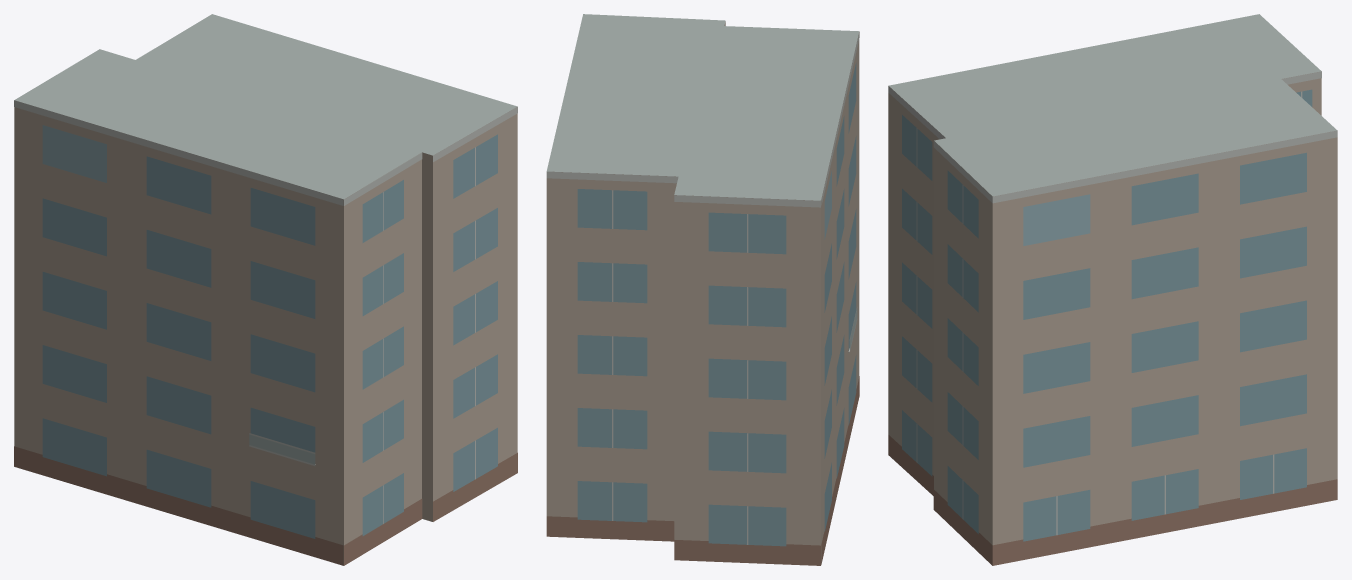
Rendered from survey-upis-32819435.glb.
The picture shows the model from 3 angles, left to right: view 1: azimuth 30°, elevation 25°; view 2: azimuth 150°, elevation 25°; view 3: azimuth 270°, elevation 25°; orthographic projection.
Visible parts, largest first — view 1: survey-upis-32819435.tmp; view 2: survey-upis-32819435.tmp; view 3: survey-upis-32819435.tmp.
Boxes of the visible parts, x1,y1,x2,y2 form: survey-upis-32819435.tmp: (14, 14, 517, 565); survey-upis-32819435.tmp: (546, 14, 859, 565); survey-upis-32819435.tmp: (888, 14, 1337, 565).
Size of the model in its own units: 13.89 by 13.1 by 14.45.
